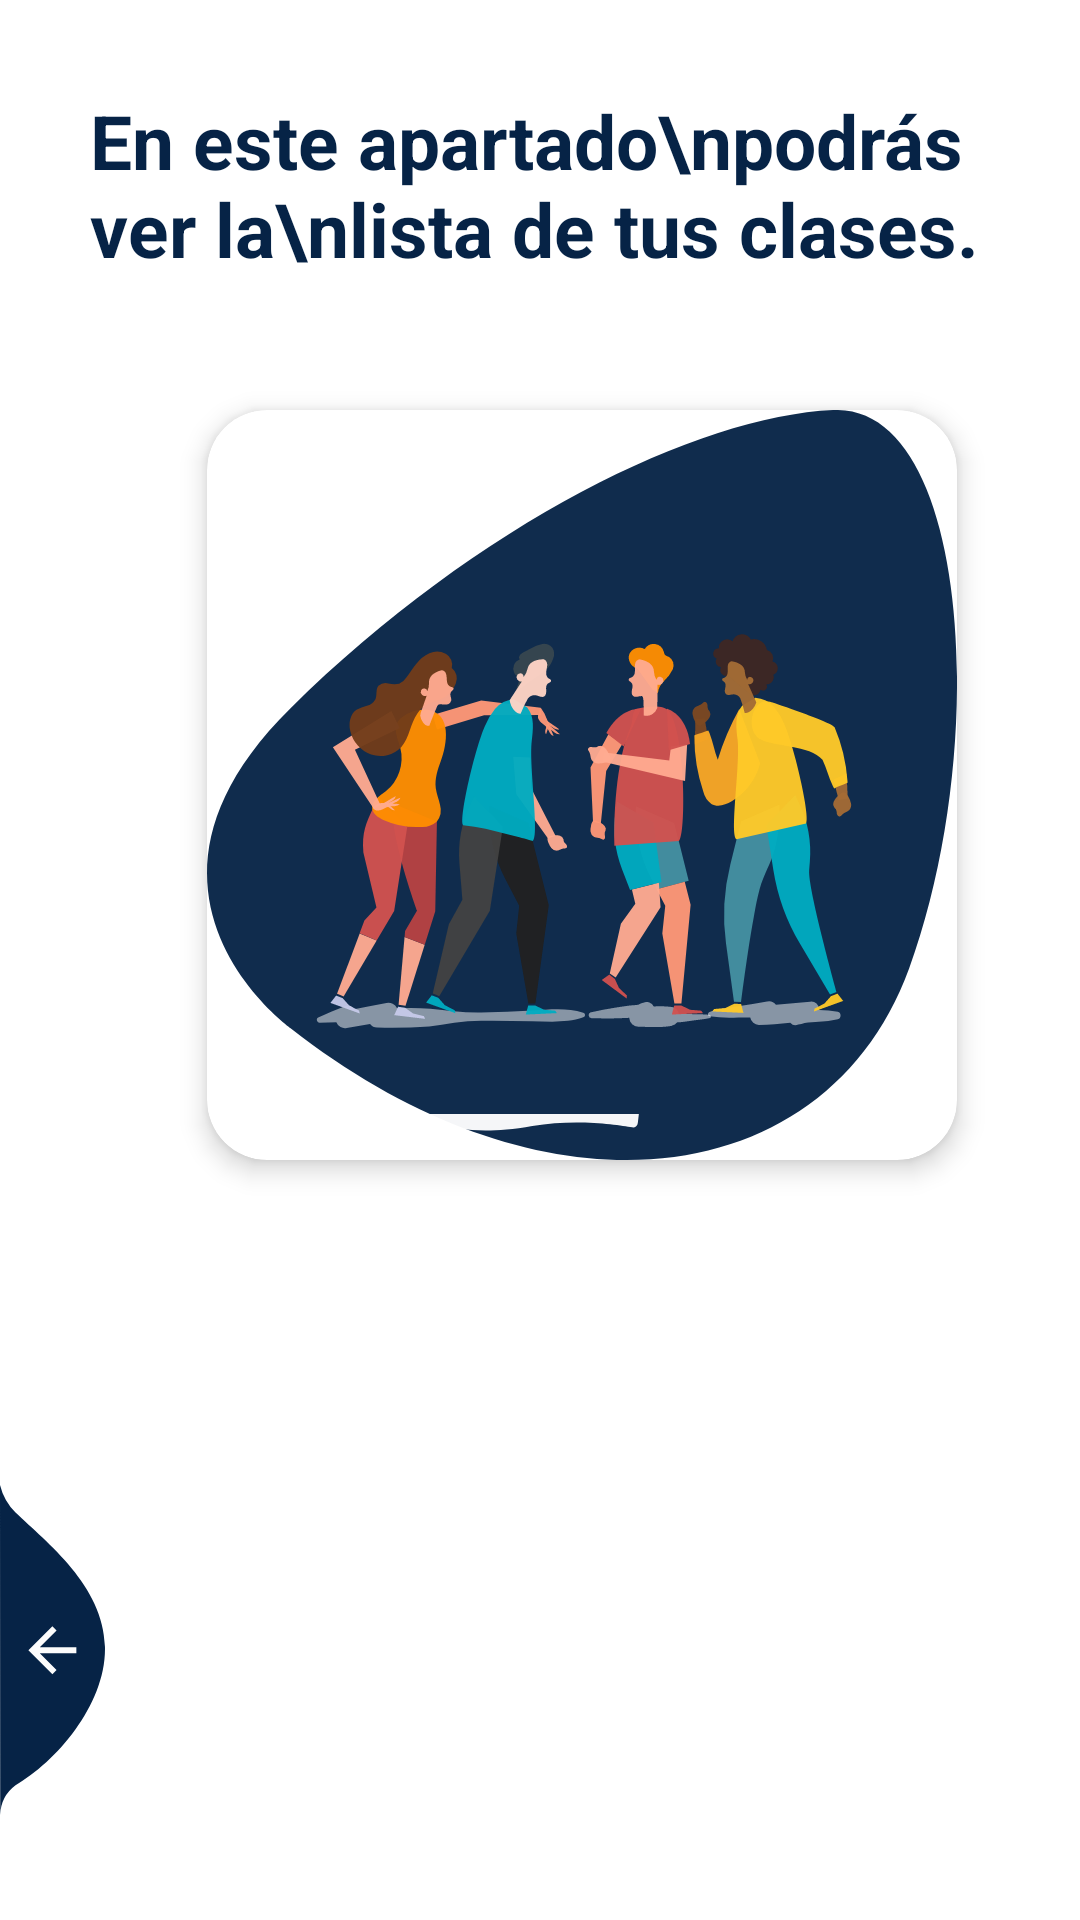

Screen size 1080 x 1920. Icon name, then its center in pixels as point (x, y):
back verde: point (52, 1649)
